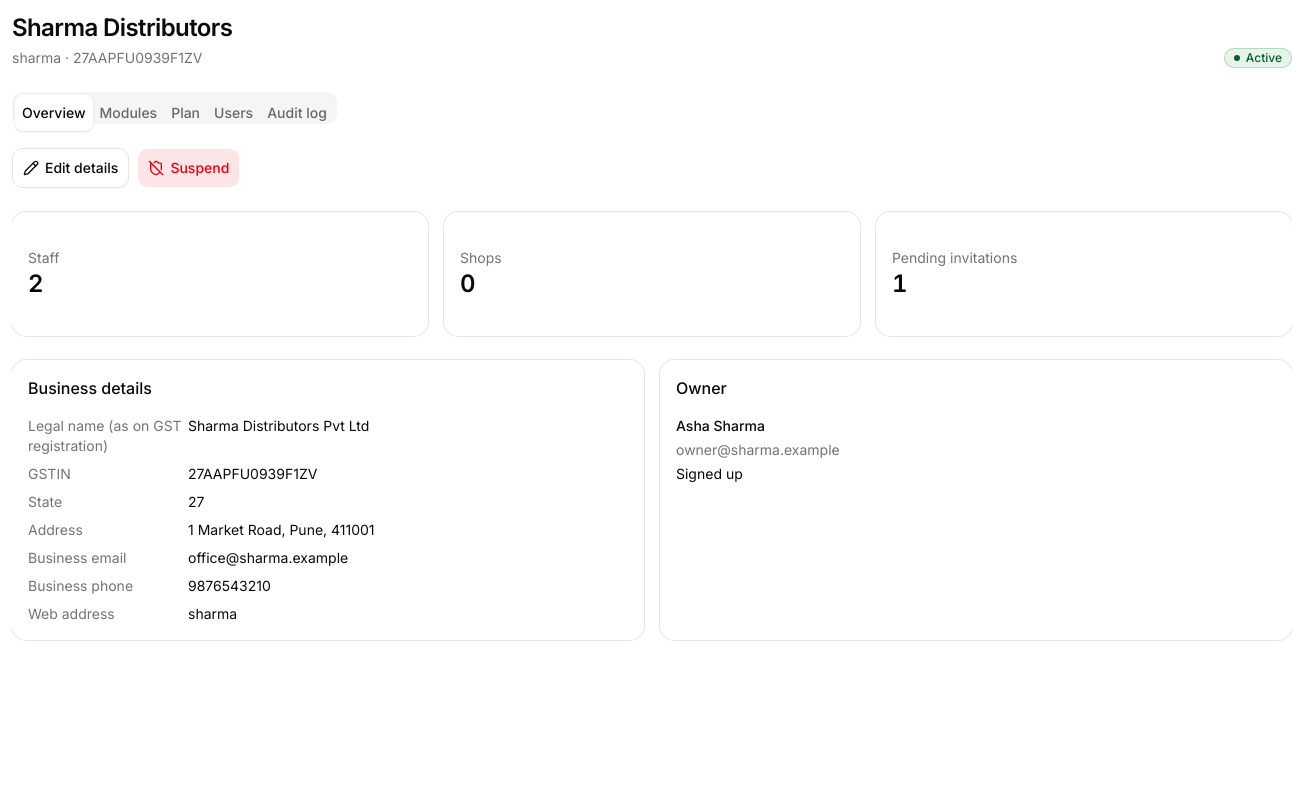
TenantDetail › sets the turnover band and says what it suggests
Click the tab "Modules" at (128, 113), box [92,95,164,131]
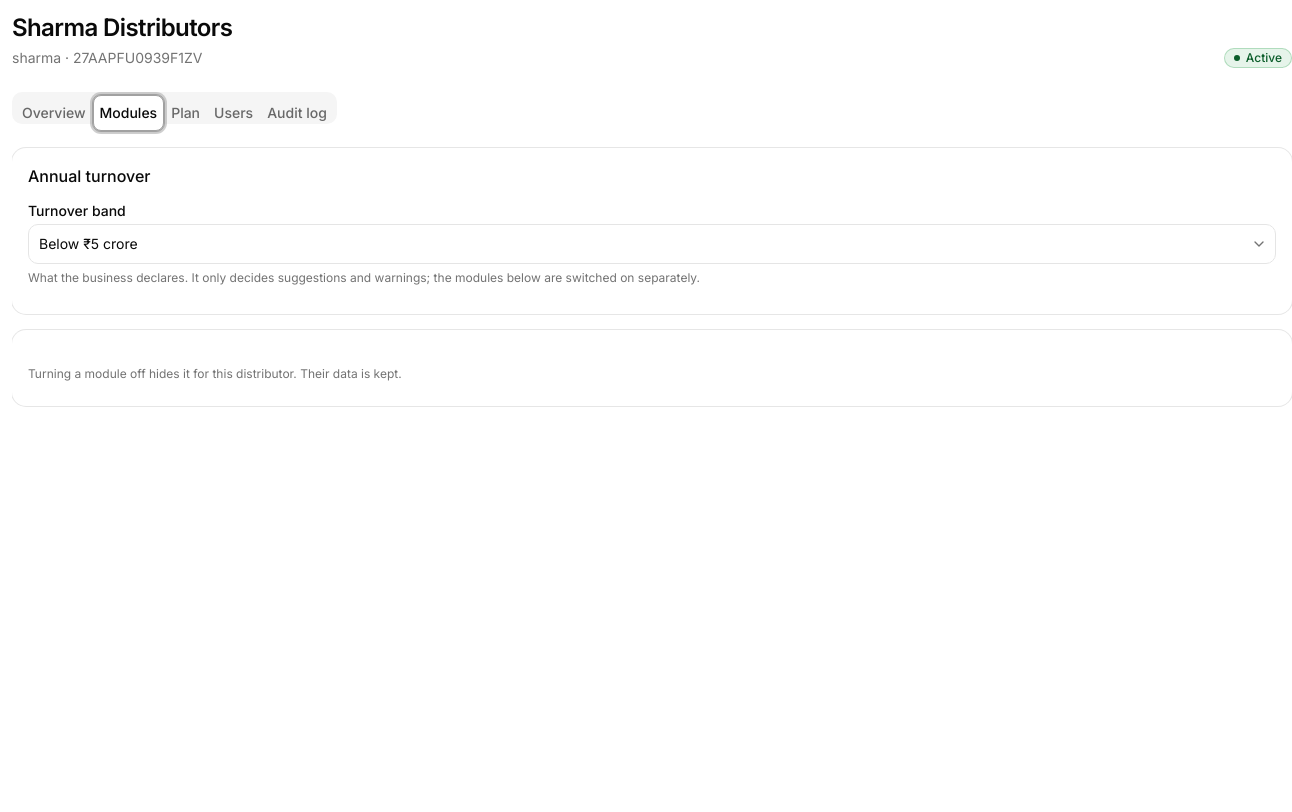
Expected: the text "E-invoicing is suggested" is not shown
Click the dropdown named "Turnover band" at (88, 244), box [28,224,1276,264]
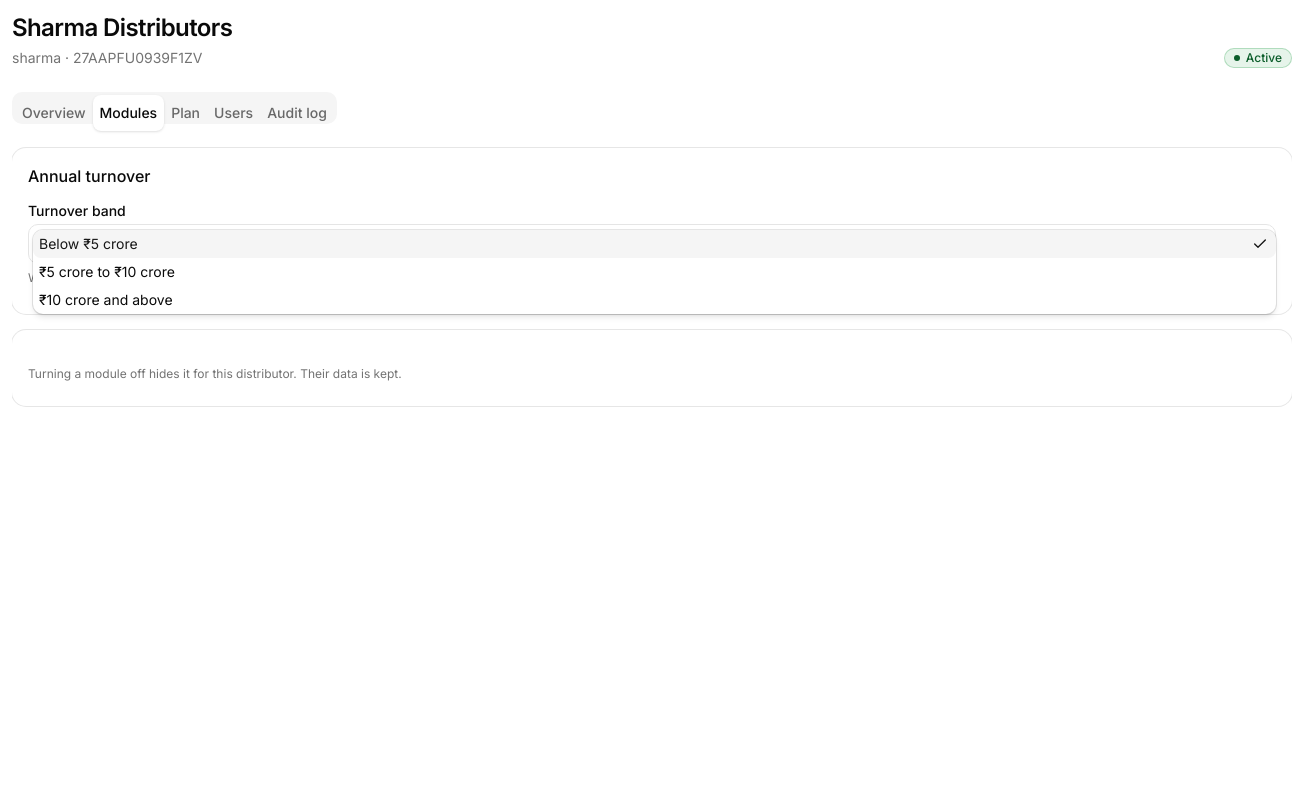
Click the option "₹10 crore and above" at (106, 300), box [39,291,173,308]
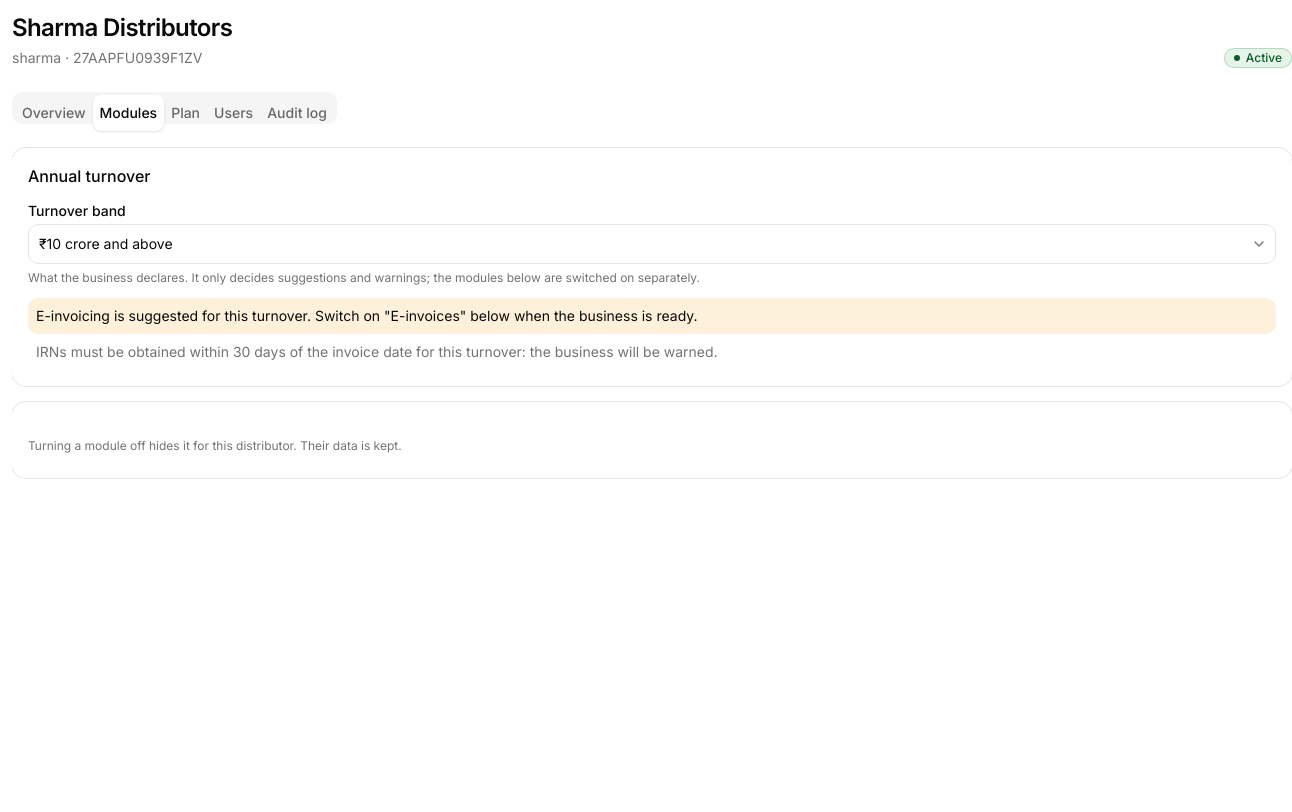
Expected: the list item "E-invoicing is suggested" is shown, [36,307,698,324]
Expected: the list item "within 30 days of the invoice date" is shown, [36,343,718,360]
